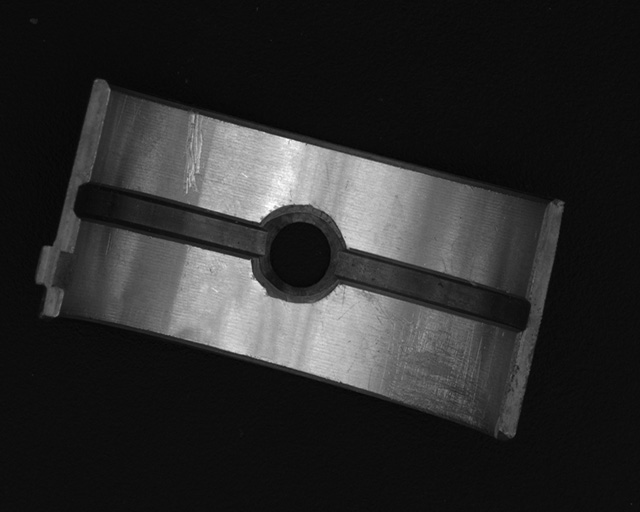gap: (334, 248, 530, 329), (73, 182, 270, 255)
hole: (252, 203, 346, 306)
nick: (185, 109, 203, 197)
scratch: (355, 289, 492, 428)
